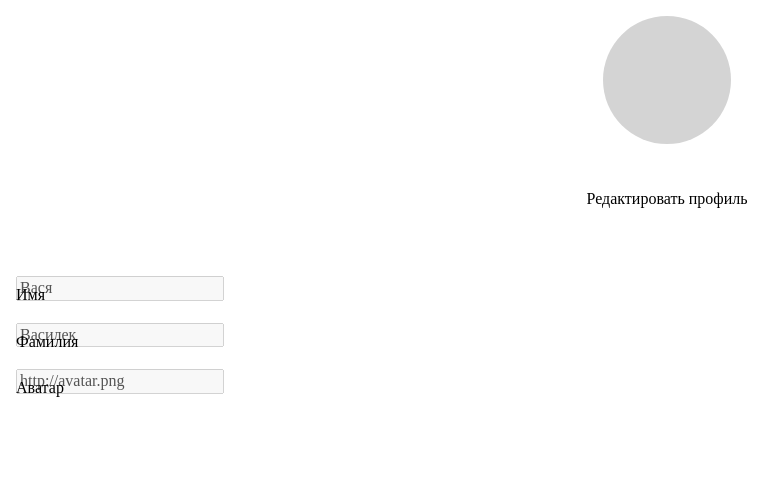
Test case: user-form › should reset form when 'cancel' button was pressed
Click the button "Редактировать профиль".
click(667, 199)  # box x1=568 y1=180 x2=766 y2=218
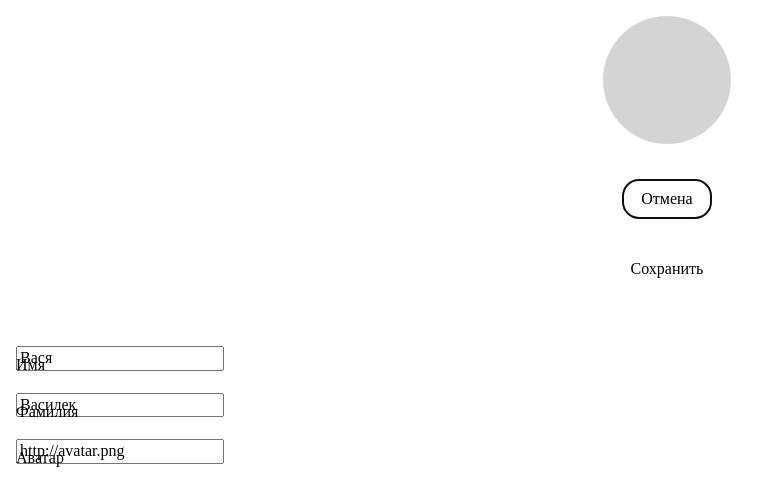
Type "-modified" into the field labelled "Имя".
click(120, 359); type("-modified")  # box x1=16 y1=346 x2=224 y2=371
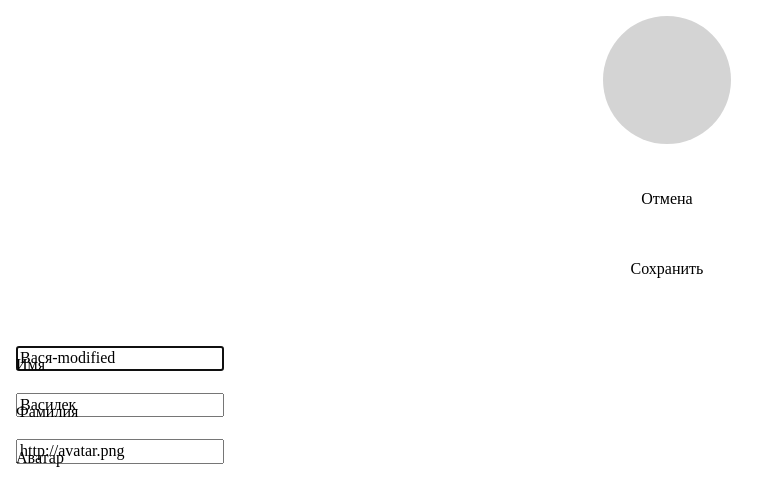
Result: the field labelled "Имя" has attribute value="Вася-modified" at x1=16 y1=346 x2=224 y2=371
// После нажатия кнопки "Отмена" форма сбрасывается на начальное состояние
Click the button "Отмена".
click(667, 199)  # box x1=623 y1=180 x2=711 y2=218
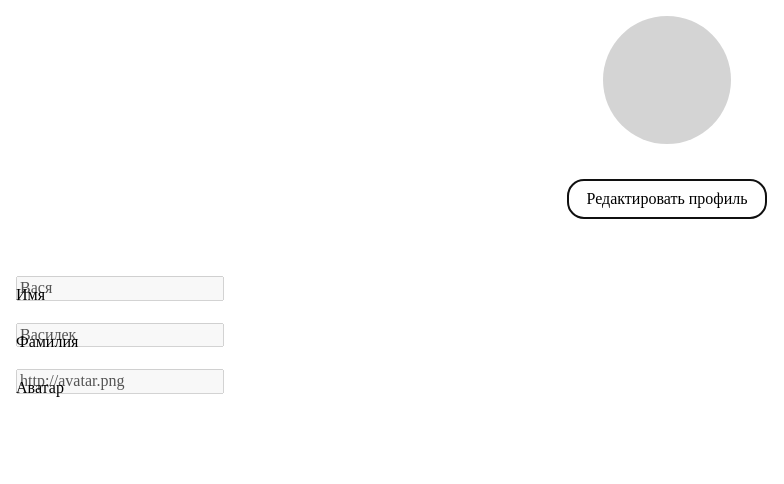
Result: the button "Отмена" is gone
Result: the button "Редактировать профиль" is shown at x1=568 y1=180 x2=766 y2=218
